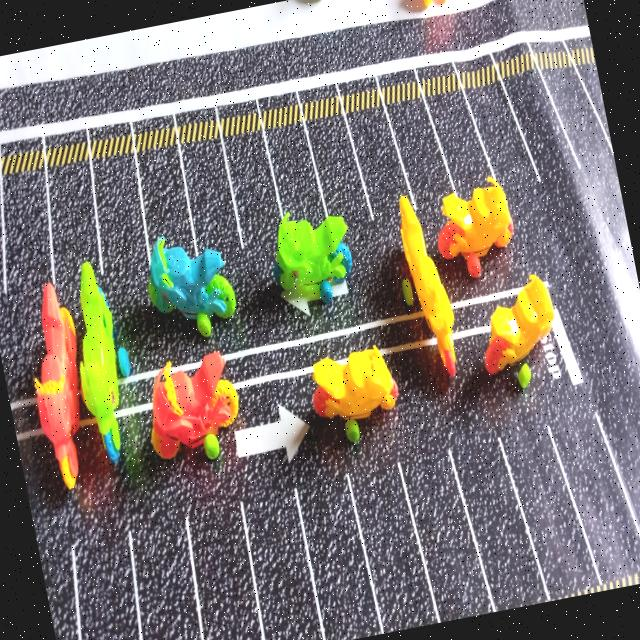bikes: (399, 196, 456, 376), (80, 262, 130, 463), (152, 351, 238, 459), (35, 283, 79, 487), (149, 236, 236, 337), (313, 346, 398, 442), (485, 275, 554, 389), (438, 177, 513, 277), (273, 212, 352, 303)
slots: (451, 431, 546, 609), (501, 430, 599, 594), (551, 409, 640, 582), (401, 451, 492, 620), (351, 464, 436, 632), (298, 479, 380, 640), (244, 492, 322, 640), (191, 504, 262, 640), (93, 153, 152, 309), (133, 513, 201, 640), (504, 69, 580, 175), (48, 161, 99, 316), (542, 67, 617, 170), (347, 102, 410, 224), (224, 131, 280, 266), (466, 82, 535, 189), (307, 116, 370, 232), (388, 99, 452, 211), (182, 138, 241, 257), (77, 531, 139, 640), (139, 135, 195, 255), (4, 171, 51, 312), (430, 91, 491, 199), (266, 123, 325, 226)
